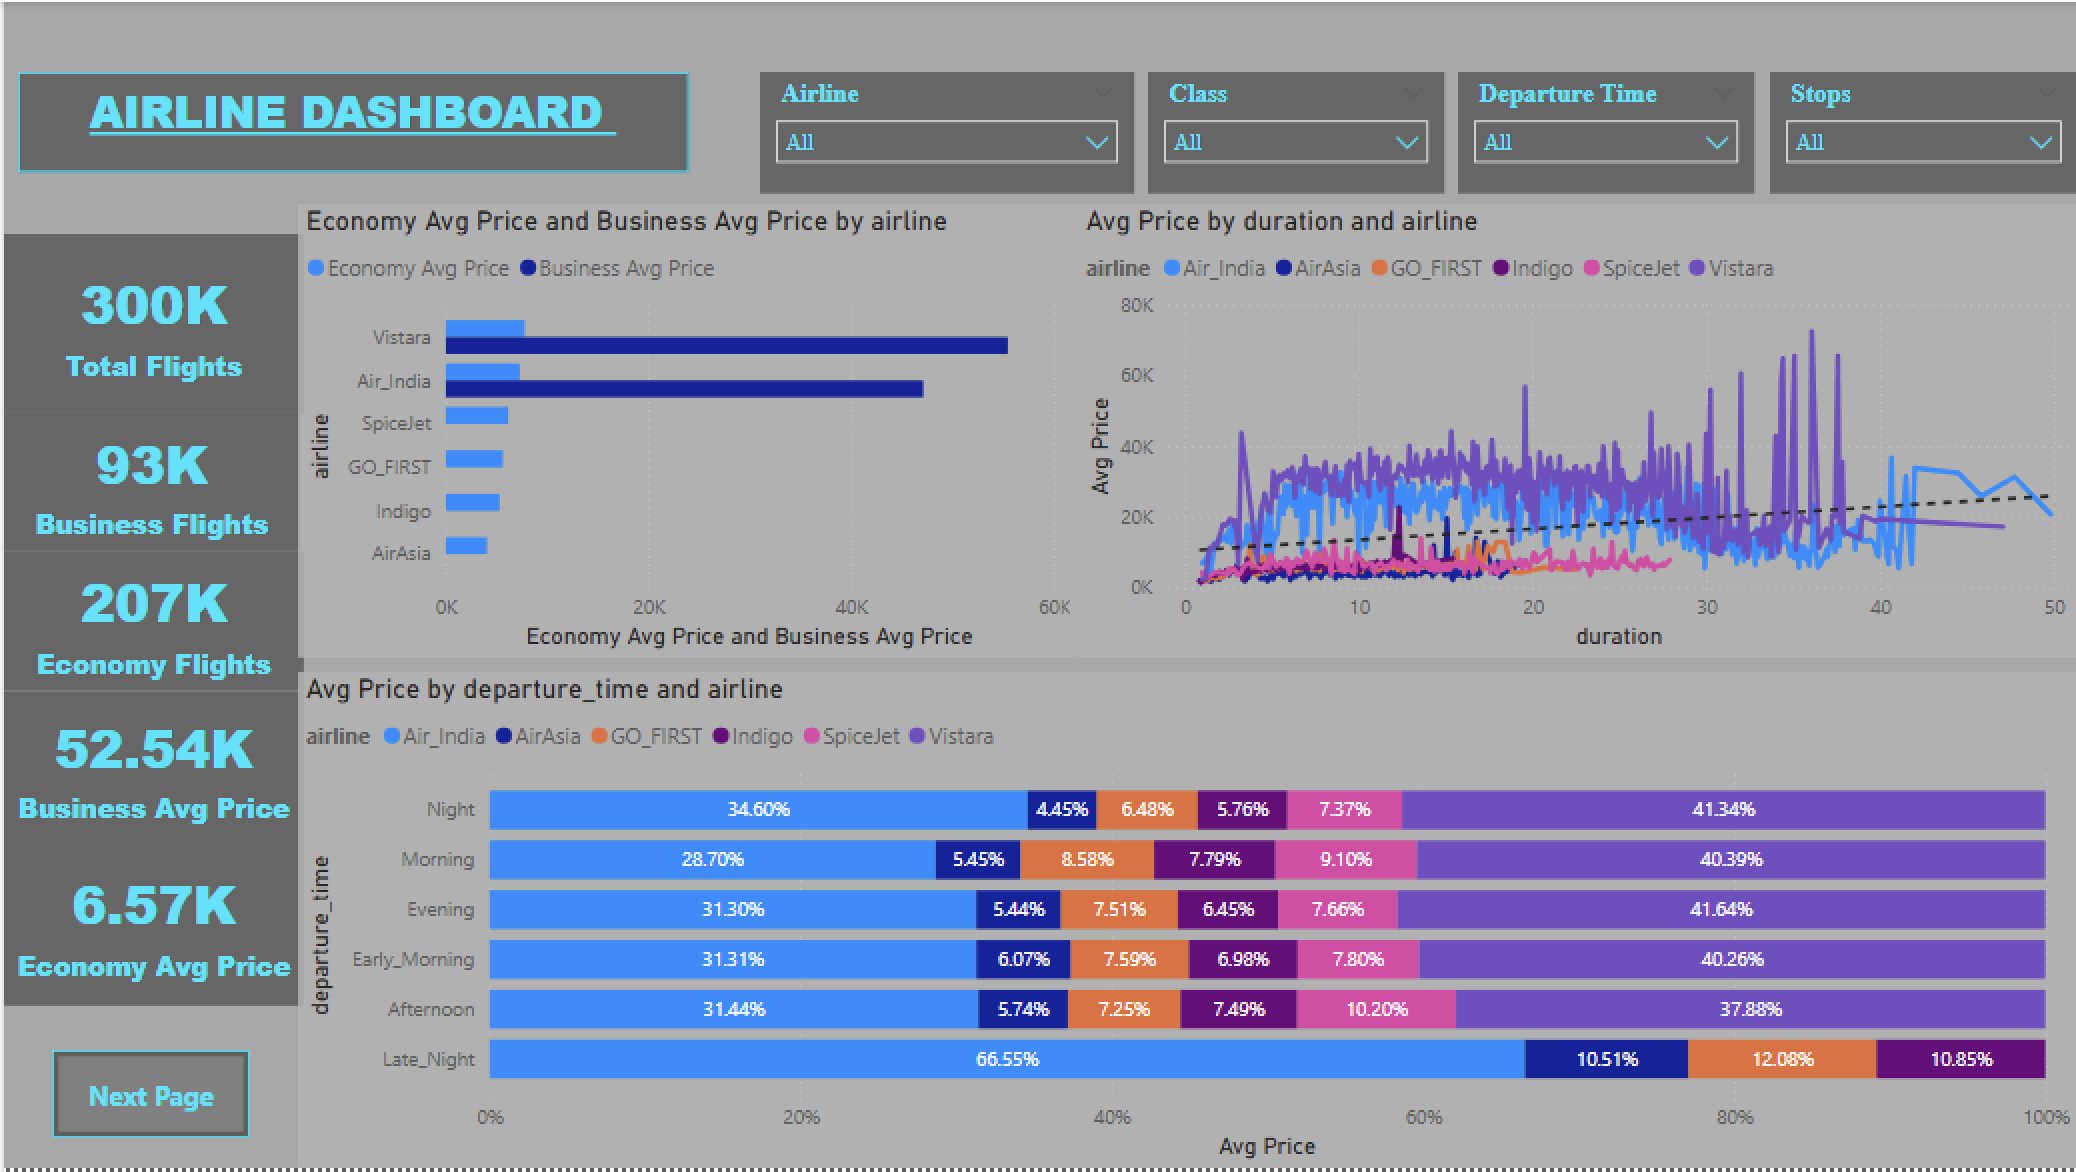

The dashboard page shown, as its layout file describes it:
{"tool":"powerbi","page":{"name":"Main Dashboard","canvas":[1280,720],"ordinal":0},"visuals":[{"type":"card","fields":{"Values":["Clean_Dataset (2).Total Flights"]},"box":[0,143.2,185.1,111.1],"z":0},{"type":"card","fields":{"Values":["Clean_Dataset (2).Business Flights"]},"box":[0,254.3,182.7,85.2],"z":1000},{"type":"card","fields":{"Values":["Clean_Dataset (2).Economy Flights"]},"box":[0,339.4,185.1,86.4],"z":2000},{"type":"card","fields":{"Values":["Clean_Dataset (2).Business Avg Price"]},"box":[0,425.8,185.1,92.6],"z":3000},{"type":"card","fields":{"Values":["Clean_Dataset (2).Economy Avg Price"]},"box":[0,518.4,185.1,101.2],"z":4000},{"type":"slicer","fields":{"Values":["Clean_Dataset (2).airline"]},"box":[466.6,43.2,230.8,75.3],"z":5000},{"type":"slicer","fields":{"Values":["Clean_Dataset (2).class"]},"box":[706,43.2,182.7,75.3],"z":6000},{"type":"clusteredBarChart","fields":{"Category":["Clean_Dataset (2).airline"],"Y":["Clean_Dataset (2).Economy Avg Price","Clean_Dataset (2).Business Avg Price"]},"box":[181.4,124.7,481.4,280.2],"z":7000},{"type":"hundredPercentStackedBarChart","fields":{"Category":["Clean_Dataset (2).departure_time"],"Y":["Clean_Dataset (2).Avg Price"],"Series":["Clean_Dataset (2).airline"]},"box":[181.4,413.5,1098.6,306.1],"z":8000},{"type":"lineChart","fields":{"Category":["Clean_Dataset (2).duration"],"Y":["Clean_Dataset (2).Avg Price"],"Series":["Clean_Dataset (2).airline"]},"box":[662.8,124.7,617.2,280.2],"z":9000},{"type":"slicer","fields":{"Values":["Clean_Dataset (2).departure_time"]},"box":[897.4,43.2,182.7,75.3],"z":10000},{"type":"slicer","fields":{"Values":["Clean_Dataset (2).stops"]},"box":[1089.9,43.2,190.1,75.3],"z":11000},{"type":"textbox","box":[8.6,43.2,413.5,61.7],"z":12000},{"type":"actionButton","box":[29.6,646.8,122.2,54.3],"z":12001}]}

Visuals, with their boxes in screenshot pixels (x1, y1, x2, y2), scaled from the page's 1280x720 canvas onto the 2076x1172 screenshot:
card - Clean_Dataset (2).Total Flights: x1=0, y1=233, x2=300, y2=414
card - Clean_Dataset (2).Business Flights: x1=0, y1=414, x2=296, y2=553
card - Clean_Dataset (2).Economy Flights: x1=0, y1=552, x2=300, y2=693
card - Clean_Dataset (2).Business Avg Price: x1=0, y1=693, x2=300, y2=844
card - Clean_Dataset (2).Economy Avg Price: x1=0, y1=844, x2=300, y2=1009
slicer - Clean_Dataset (2).airline: x1=757, y1=70, x2=1131, y2=193
slicer - Clean_Dataset (2).class: x1=1145, y1=70, x2=1441, y2=193
clusteredBarChart - Clean_Dataset (2).airline x Clean_Dataset (2).Economy Avg Price: x1=294, y1=203, x2=1075, y2=659
hundredPercentStackedBarChart - Clean_Dataset (2).departure_time x Clean_Dataset (2).Avg Price: x1=294, y1=673, x2=2075, y2=1171
lineChart - Clean_Dataset (2).duration x Clean_Dataset (2).Avg Price: x1=1075, y1=203, x2=2075, y2=659
slicer - Clean_Dataset (2).departure_time: x1=1455, y1=70, x2=1752, y2=193
slicer - Clean_Dataset (2).stops: x1=1768, y1=70, x2=2075, y2=193
textbox: x1=14, y1=70, x2=685, y2=171
actionButton: x1=48, y1=1053, x2=246, y2=1141
